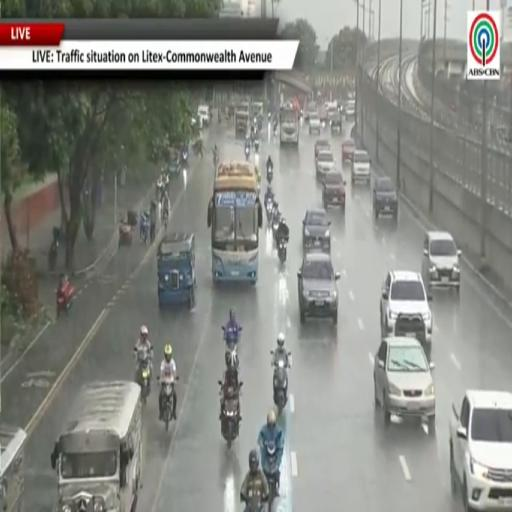bus: (51, 381, 142, 511), (207, 163, 262, 283), (0, 424, 26, 511)
car: (450, 390, 511, 511), (374, 336, 435, 435), (380, 270, 432, 344), (298, 253, 339, 325), (422, 232, 461, 291), (303, 208, 330, 252), (373, 176, 398, 221), (322, 170, 345, 212), (351, 150, 371, 184), (316, 151, 335, 179), (196, 104, 210, 127), (342, 138, 356, 161), (315, 139, 330, 159), (330, 112, 342, 135), (309, 112, 321, 135), (304, 104, 317, 121), (345, 100, 355, 119), (319, 107, 328, 125)
jeepney: (157, 233, 196, 309), (235, 106, 249, 139), (251, 102, 263, 131)
motorcycle: (221, 382, 243, 447), (271, 351, 291, 414), (261, 441, 279, 509), (222, 326, 242, 367), (137, 354, 151, 404), (56, 280, 74, 317), (48, 227, 60, 271), (244, 495, 268, 511), (48, 239, 58, 271), (140, 212, 150, 244), (277, 237, 287, 264), (272, 211, 281, 239), (265, 195, 273, 223), (162, 210, 169, 230), (181, 149, 188, 168), (266, 165, 272, 184), (213, 152, 218, 169), (273, 121, 278, 137), (245, 147, 250, 161), (255, 139, 259, 153), (158, 376, 159, 381)
tricycle: (119, 211, 137, 248)
truck: (280, 106, 299, 146), (235, 105, 249, 139)
